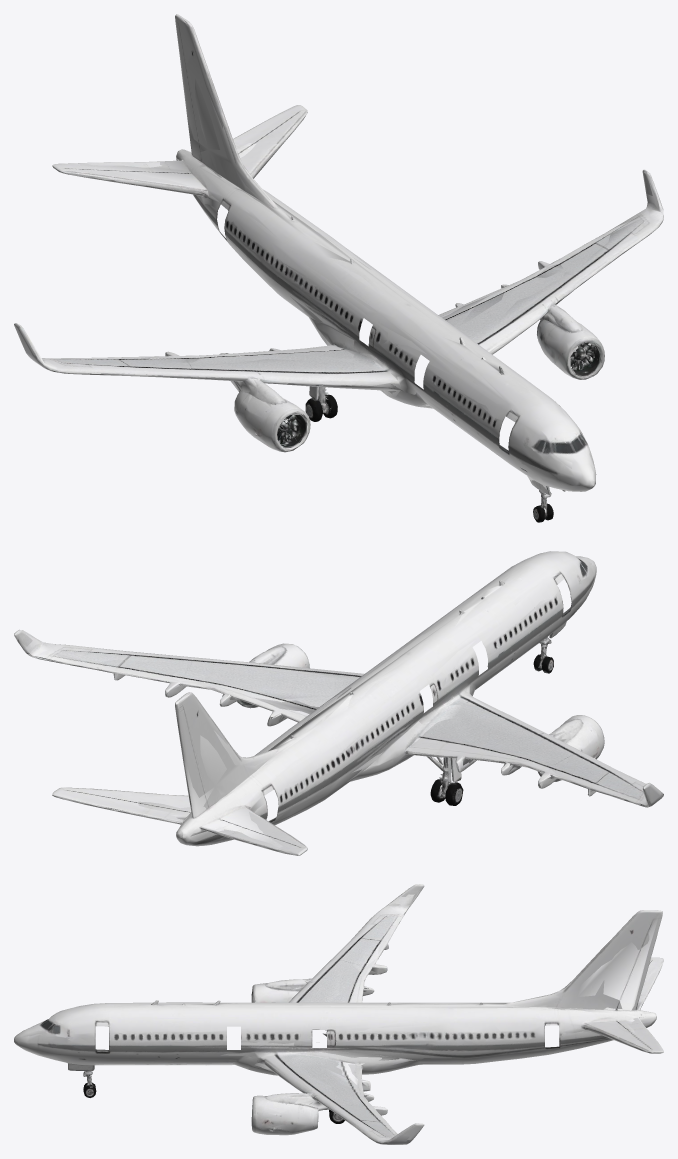
File: airliner_shell.glb
The picture shows the model from 3 angles, top to bottom: view 1: azimuth 30°, elevation 25°; view 2: azimuth 150°, elevation 25°; view 3: azimuth 270°, elevation 25°; orthographic projection. The views are drawn at different scales.
Visible parts, largest first — view 1: turn, mesh_lod; view 2: turn, mesh_lod; view 3: turn, mesh_lod.
Boxes of the visible parts, left/top/right/bottom form: turn: left=14, top=14, right=663, bottom=522; mesh_lod: left=17, top=18, right=663, bottom=522; turn: left=14, top=551, right=663, bottom=855; mesh_lod: left=15, top=551, right=663, bottom=854; turn: left=14, top=884, right=663, bottom=1144; mesh_lod: left=14, top=884, right=662, bottom=1144.
Bounding box in the file's own units: 59.89 × 21.65 × 68.43.
Materials: 1 (1 with a texture image).
